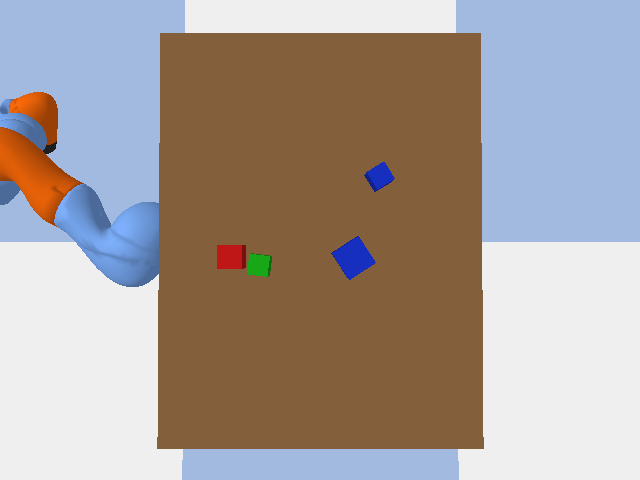blue_obj: (331, 236, 375, 279), (364, 162, 394, 191)
green_obj: (247, 253, 271, 276)
red_obj: (217, 245, 245, 268)
